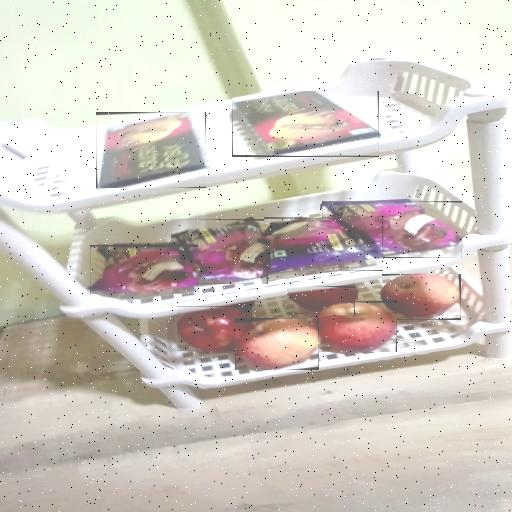Apple: (235, 318, 319, 370), (317, 301, 397, 352), (382, 274, 461, 320), (177, 306, 252, 351), (287, 286, 355, 314)
Choco Fills: (232, 91, 379, 157), (96, 112, 206, 188)
Choco Pie: (322, 201, 462, 258), (171, 219, 268, 284), (264, 219, 383, 271), (90, 245, 198, 294)
